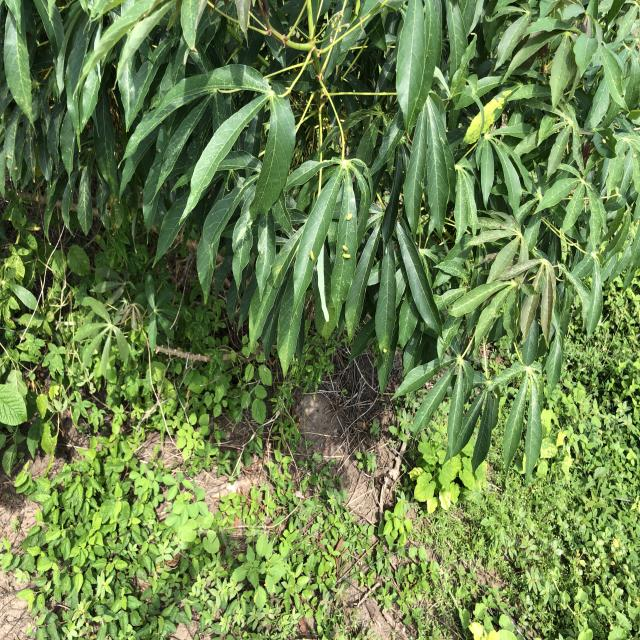Maleza: (11, 400, 329, 640), (256, 482, 617, 637), (570, 316, 639, 640), (388, 450, 487, 553)
Mosca: (308, 246, 325, 267), (341, 245, 354, 265), (184, 40, 201, 55), (343, 210, 360, 224)
